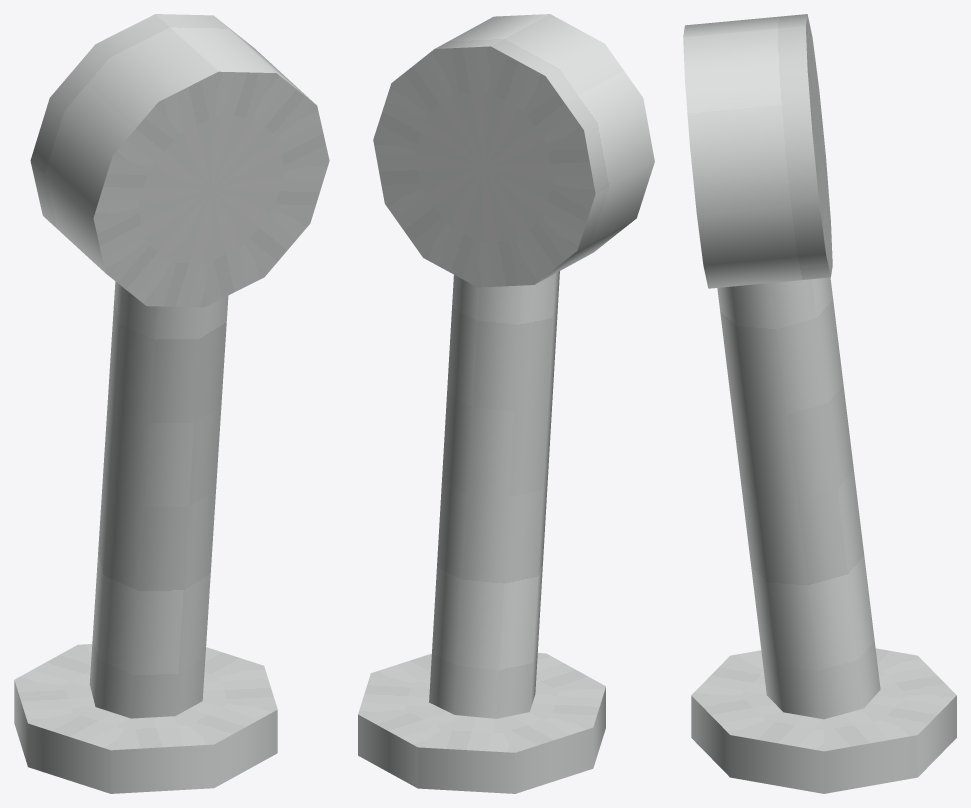
File: trusssignalarm_stub_32.obj
The picture shows the model from 3 angles, left to right: view 1: azimuth 30°, elevation 25°; view 2: azimuth 150°, elevation 25°; view 3: azimuth 270°, elevation 25°; orthographic projection. The views are drawn at different scales.
Parts seen in each view (by area): view 1: trusssignalarm_stub_32; view 2: trusssignalarm_stub_32; view 3: trusssignalarm_stub_32.
Boxes of the visible parts, x1,y1,x2,y2 form: trusssignalarm_stub_32: (14, 14, 329, 793); trusssignalarm_stub_32: (358, 14, 654, 793); trusssignalarm_stub_32: (683, 14, 956, 793).
Bounding box in the file's own units: 0.35 × 1.04 × 0.3607.
